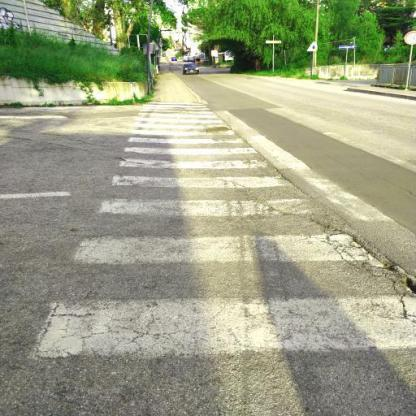crosswalk: (90, 171, 336, 221), (124, 128, 249, 148)
